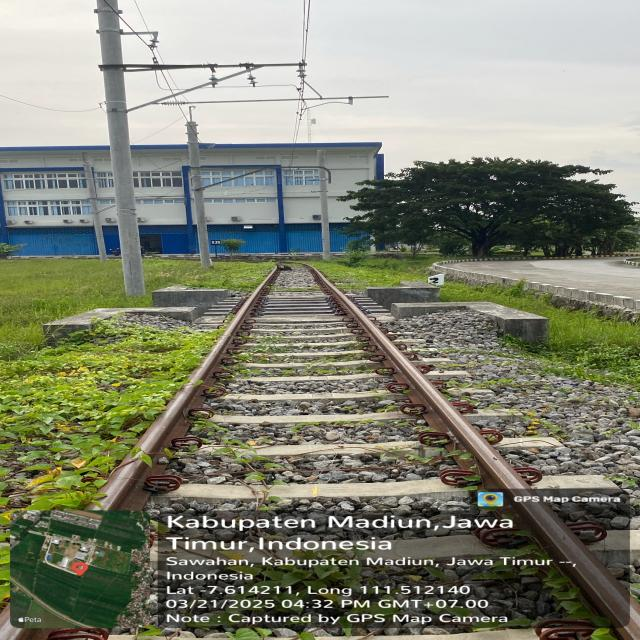rail-detection: (306, 266, 640, 640), (100, 266, 280, 511)
